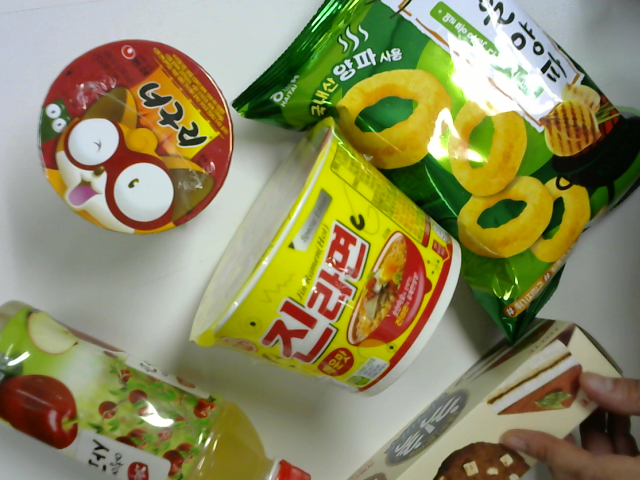Chicchok_Tiramisu: (319, 313, 620, 480)
Grilled_Onions: (226, 2, 640, 350)
Jinlamyeon_Hot_Taste_Large_Cup: (175, 107, 469, 398)
Morning_Apple_500ml: (1, 292, 325, 480)
Raccoon: (30, 31, 238, 232)
